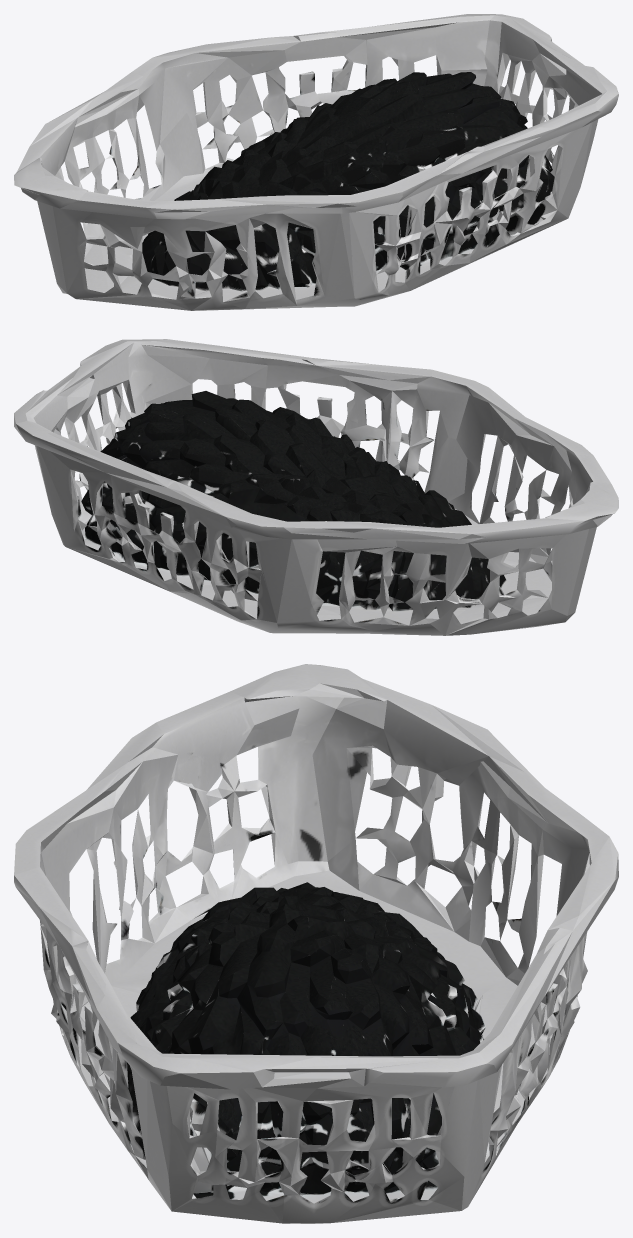
Rendered from laundry-basket.glb.
3 views of the same model, one above another, from view 1: azimuth 30°, elevation 25°; view 2: azimuth 150°, elevation 25°; view 3: azimuth 270°, elevation 25° (orthographic). The views are drawn at different scales.
Visible parts, largest first — view 1: Mesh_0; view 2: Mesh_0; view 3: Mesh_0.
Part boxes in pixels (<box>): Mesh_0: <box>14,14,618,310</box>; Mesh_0: <box>14,339,618,635</box>; Mesh_0: <box>14,664,618,1223</box>.
Bounding box in the file's own units: 1.9 × 0.4602 × 1.2.
Materials: 1 (1 with a texture image).
